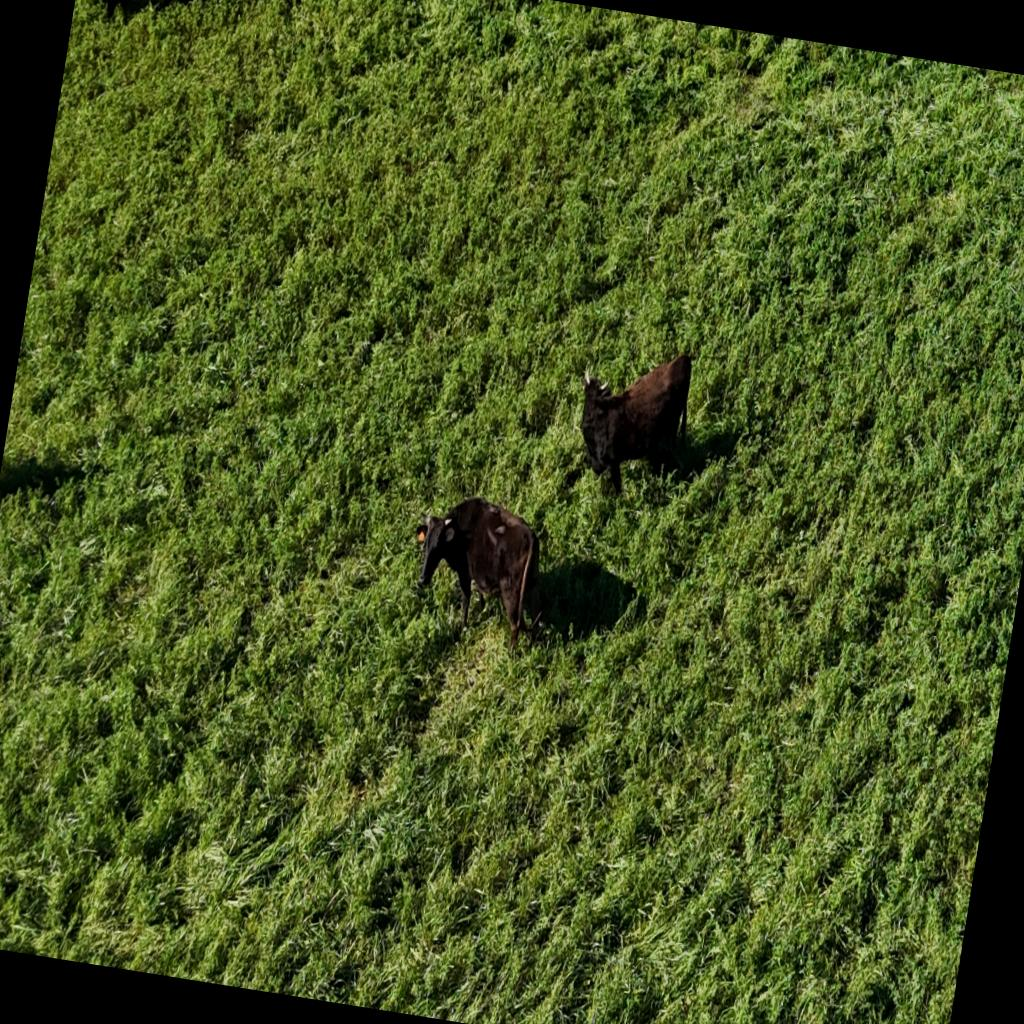cow: (398, 484, 560, 658), (566, 339, 698, 504), (78, 0, 201, 32)
